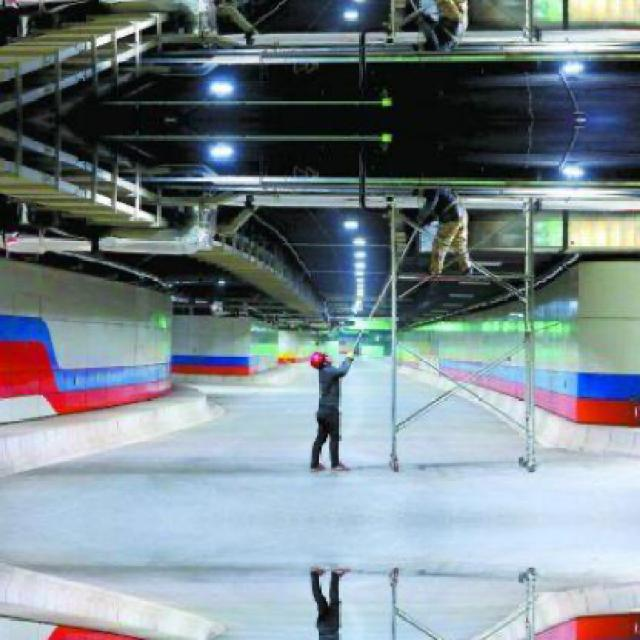helmet: (304, 348, 334, 372)
